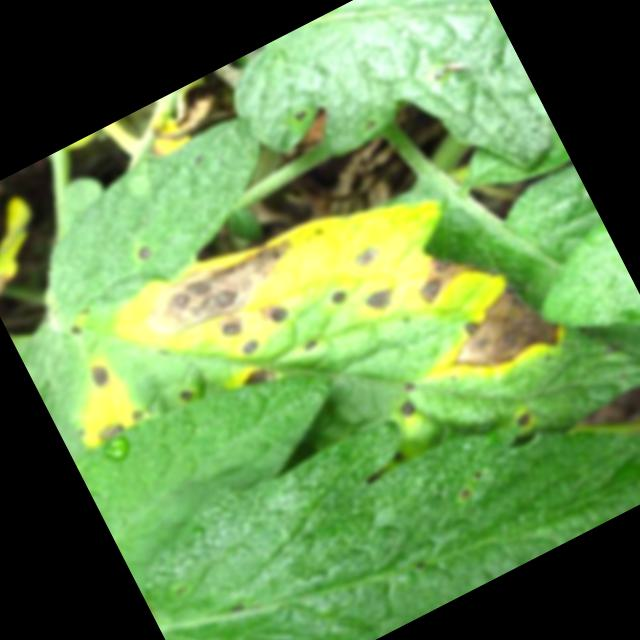Early_blight: (129, 215, 312, 351), (411, 269, 571, 404), (404, 227, 507, 313), (212, 305, 255, 345), (255, 292, 295, 330), (234, 357, 277, 392), (84, 355, 121, 394), (362, 280, 402, 316), (349, 238, 387, 272), (92, 415, 127, 446), (507, 400, 538, 432), (235, 331, 265, 360), (396, 394, 422, 421), (132, 241, 156, 262), (328, 284, 351, 305), (176, 383, 198, 404), (300, 334, 323, 353)
